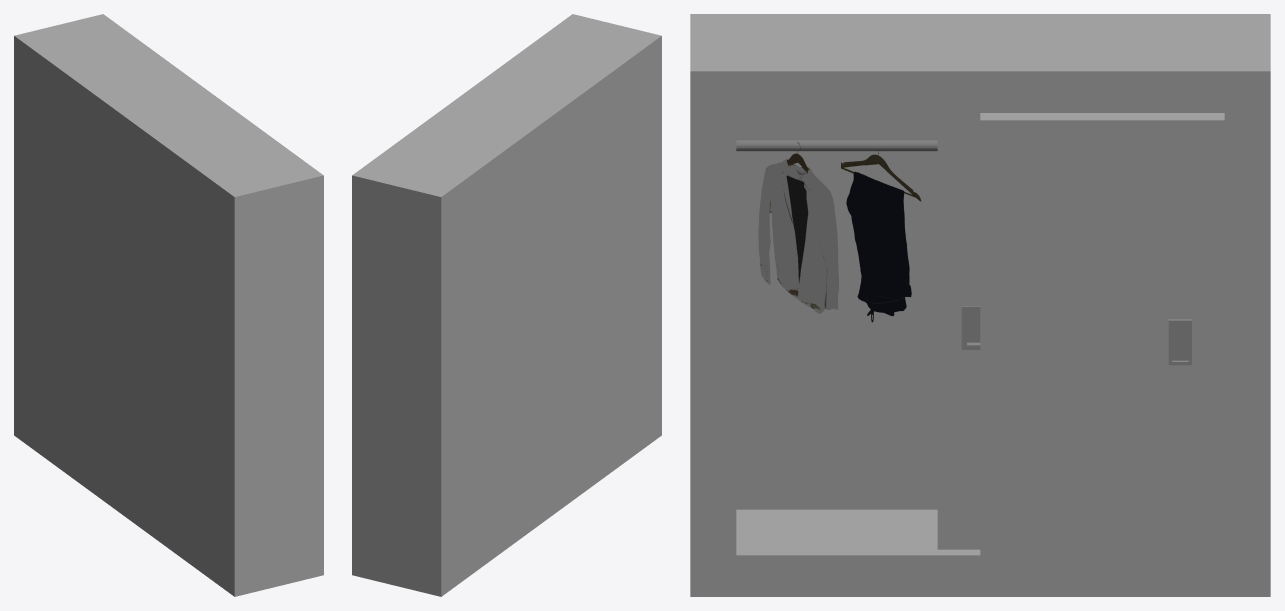
The model's file is Armario.glb.
3 views of the same model, side by side, from view 1: azimuth 30°, elevation 25°; view 2: azimuth 150°, elevation 25°; view 3: azimuth 270°, elevation 25° (orthographic). The views are drawn at different scales.
Parts seen in each view (by area): view 1: Wardrobe-col; view 2: Wardrobe-col; view 3: Wardrobe-col, Door, Uniform, Pants, Bar.
Boxes of the visible parts, box(x1,y1,x2,y2) form: Wardrobe-col: box(14, 14, 323, 596); Wardrobe-col: box(352, 14, 661, 596); Wardrobe-col: box(690, 14, 1270, 596); Door: box(937, 113, 980, 549); Uniform: box(758, 142, 838, 313); Pants: box(841, 151, 921, 322); Bar: box(736, 139, 937, 151).
Bounding box in the file's own units: 0.8081 × 3 × 3.
Materials: 5 (2 with a texture image).
